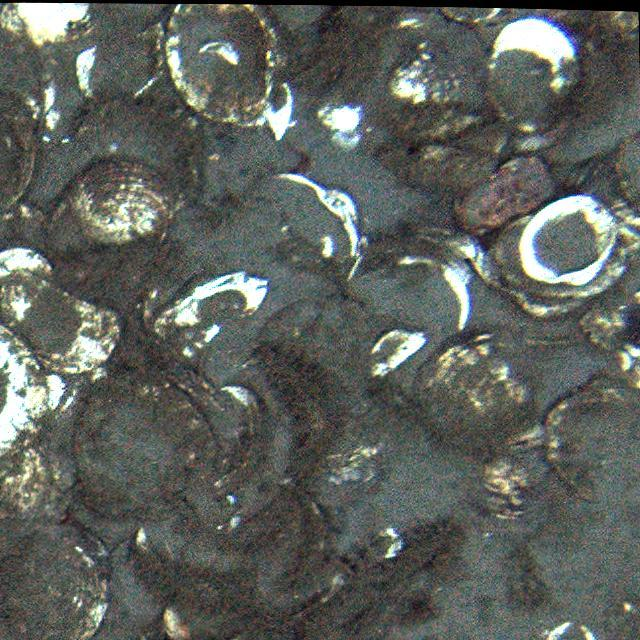crab: (440, 158, 556, 227)
